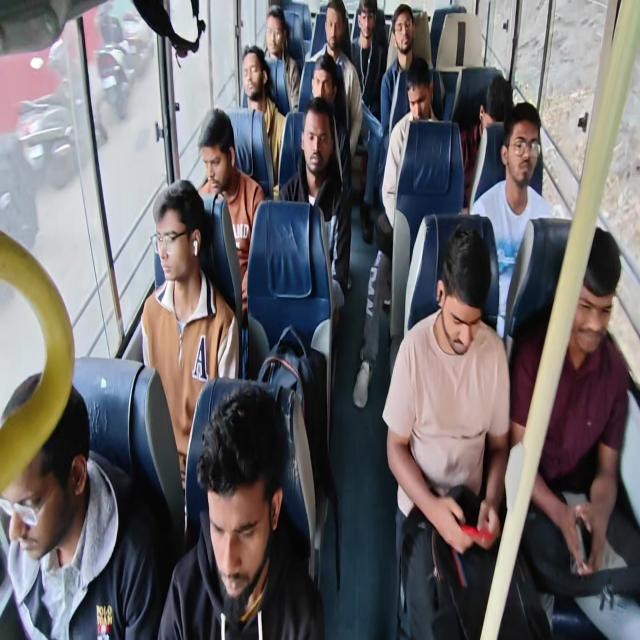person: (0, 370, 105, 625), (189, 426, 308, 640), (541, 217, 640, 443), (282, 118, 351, 222), (431, 239, 491, 356), (160, 146, 200, 292), (189, 103, 234, 199), (513, 113, 557, 200), (471, 68, 518, 141), (239, 40, 273, 128), (316, 52, 349, 140), (264, 14, 296, 94), (404, 61, 432, 133), (322, 0, 348, 59), (352, 6, 378, 55), (386, 6, 407, 54)
